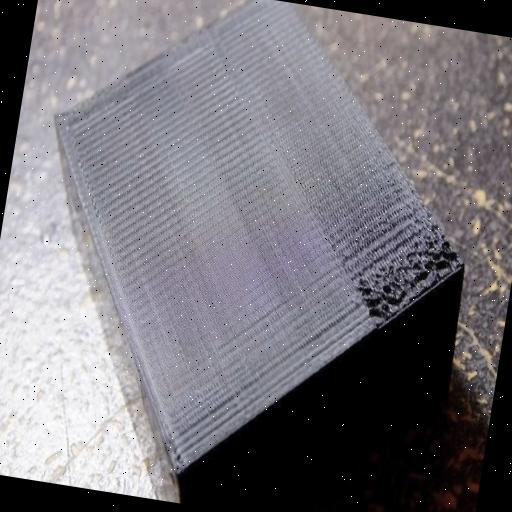cracks: (345, 210, 469, 342)
